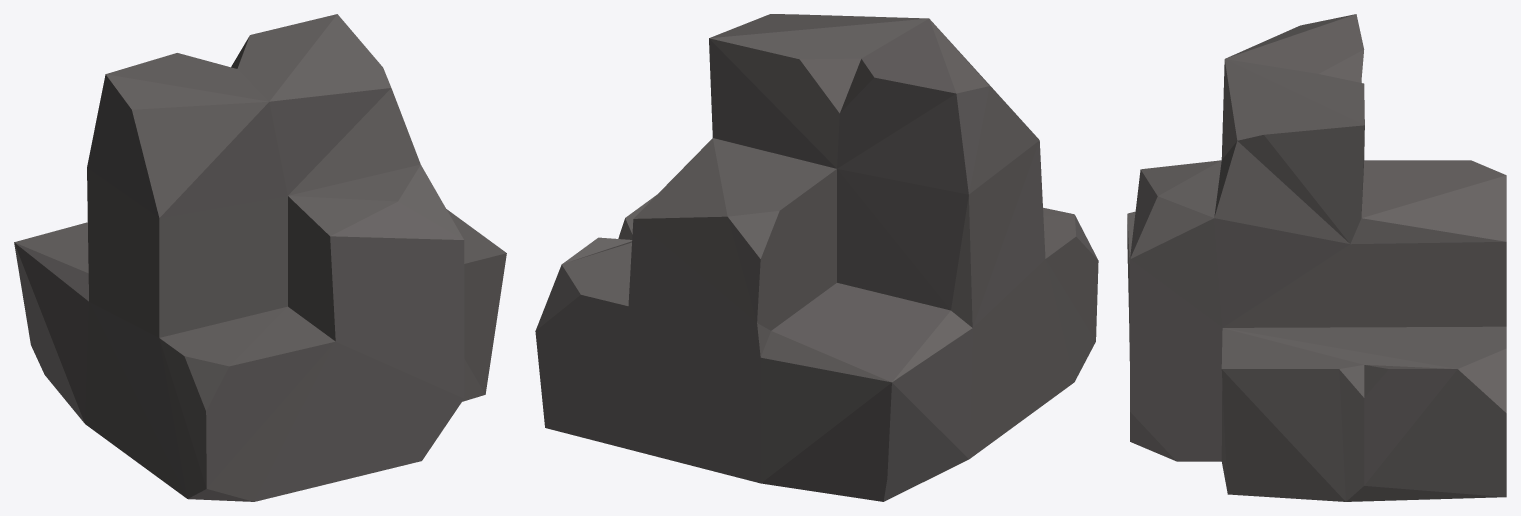
The model's file is Rock_02.fbx.
3 renders of one model, left to right at view 1: azimuth 30°, elevation 25°; view 2: azimuth 150°, elevation 25°; view 3: azimuth 270°, elevation 25°, orthographic. The views are drawn at different scales.
Parts seen in each view (by area): view 1: Cube.082; view 2: Cube.082; view 3: Cube.082.
Part boxes in pixels (<box>): Cube.082: <box>14,14,506,501</box>; Cube.082: <box>535,14,1098,501</box>; Cube.082: <box>1127,14,1506,501</box>.
Size of the model in its own units: 3.06 by 2.99 by 2.93.
Materials: 1 (1 with a texture image).
